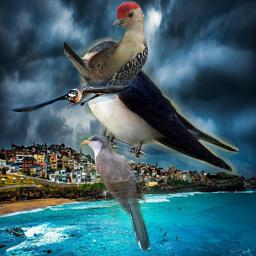Cuckoo: (77, 133, 153, 253)
Swallow: (72, 37, 239, 177), (10, 80, 133, 112)
Woodpecker: (64, 1, 148, 112)
